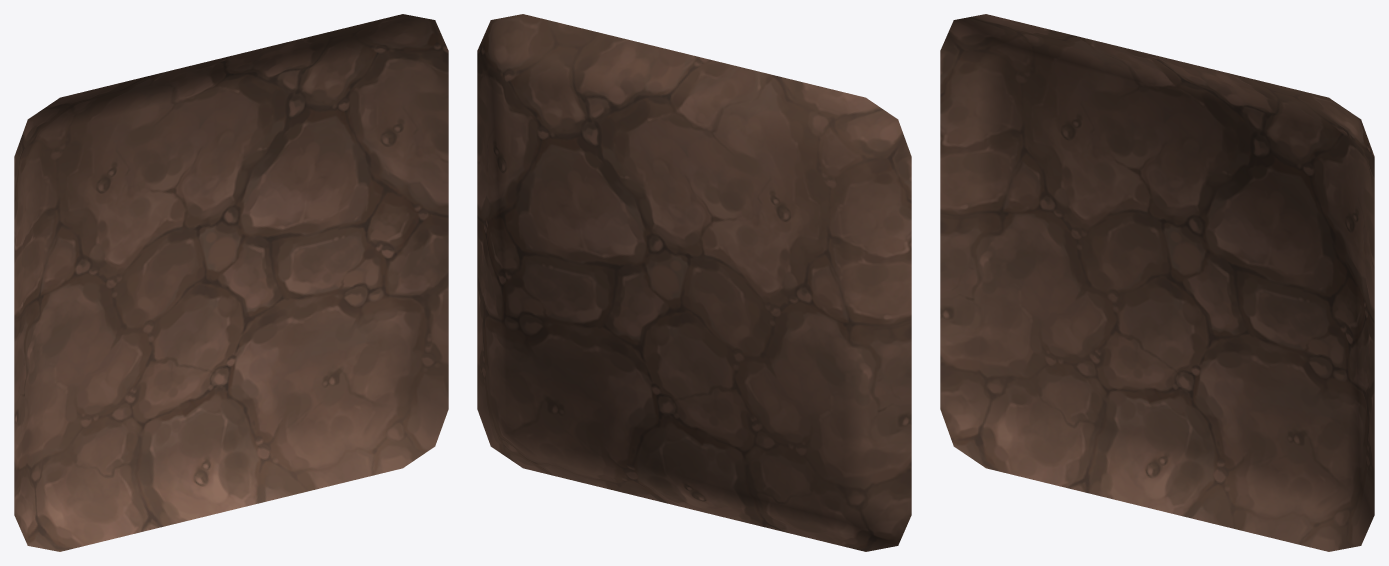
File: cell_revealed.glb
3 renders of one model, left to right at view 1: azimuth 30°, elevation 25°; view 2: azimuth 150°, elevation 25°; view 3: azimuth 330°, elevation 25°, orthographic.
Visible parts, largest first — view 1: cell_revealed.014; view 2: cell_revealed.014; view 3: cell_revealed.014.
Boxes of the visible parts, <box> form: cell_revealed.014: <box>14,14,448,551</box>; cell_revealed.014: <box>477,14,911,551</box>; cell_revealed.014: <box>940,14,1374,551</box>.
Size of what is drawn, in the model's own units: 1 by 1 by 0.0772.
Materials: 1 (1 with a texture image).
